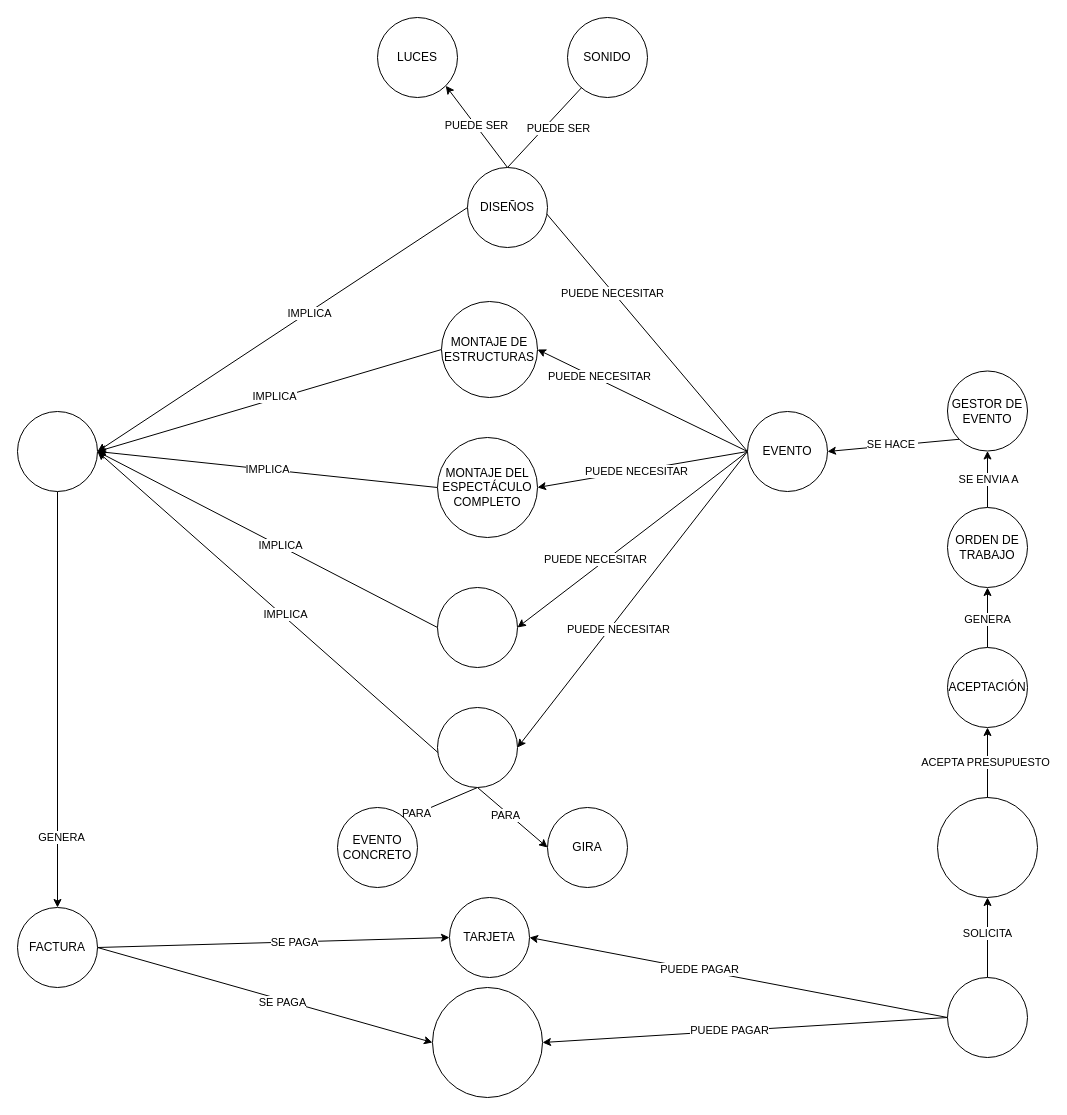
The diagram is 1067 pixels wide and 1115 high, and some of its shapes have lost their labels. Here are the shapes that lost their labels. From the top down, the box of each, then its label:
(16, 410, 98, 492): COSTES
(436, 586, 518, 668): SERVICIO TÉCNICO
(436, 706, 518, 788): ALGUILER DE MATERIAL
(936, 796, 1038, 898): PRESUPUESTO PARA EVENTO
(946, 976, 1028, 1058): CLIENTE
(432, 986, 542, 1098): TRANSFERENCIA
